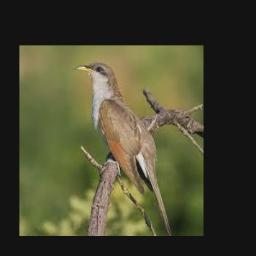Cuckoo: (75, 63, 173, 235)
